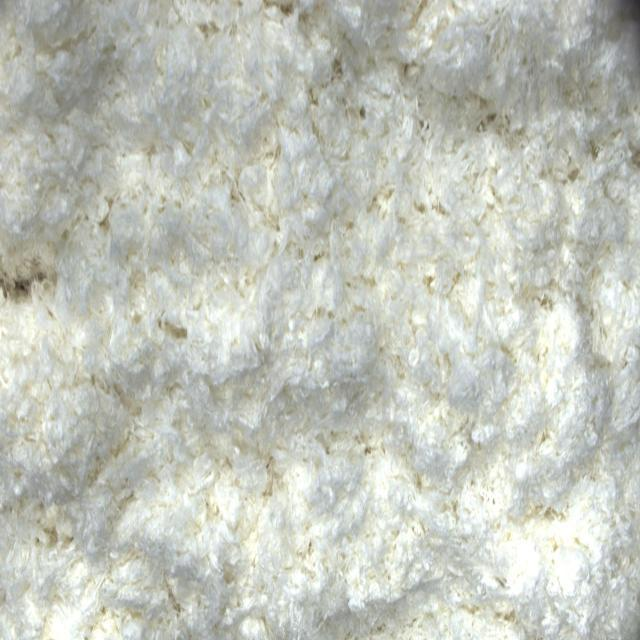dust: (4, 265, 41, 299)
